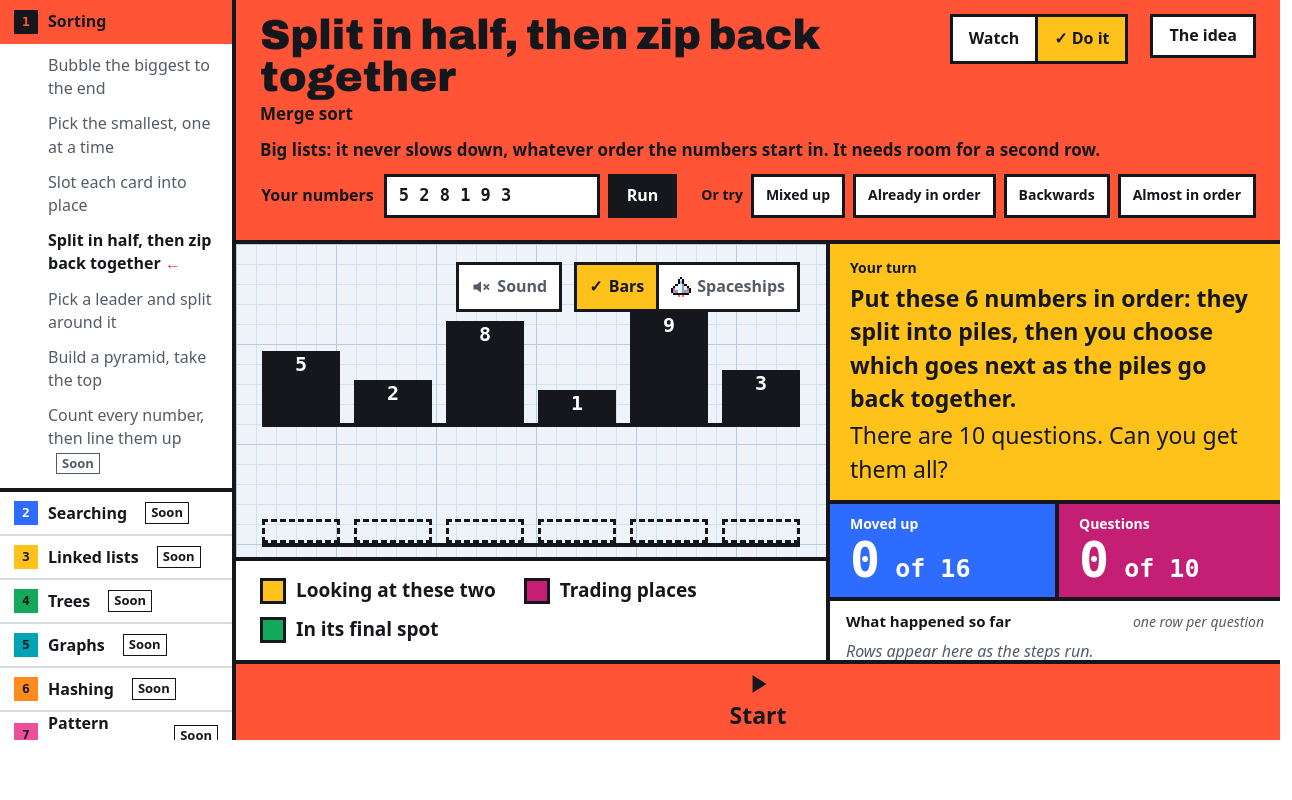
it: merge sort: Do it › L and R keys answer; a wrong key opens the nudge calmly and asks again
Click the button "Start": (758, 702) top-left (236, 664), bottom-right (1280, 740)
Wait 8000 ms
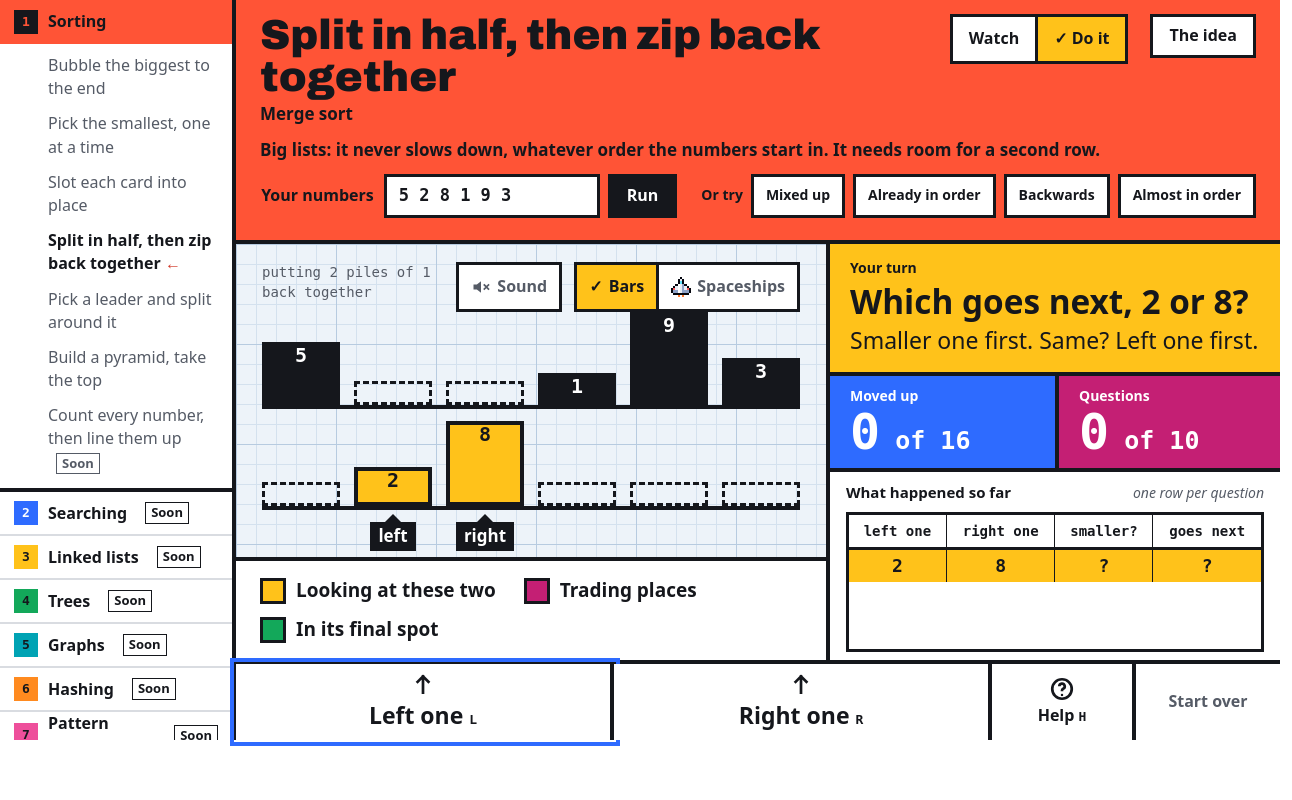
Type keys "r"
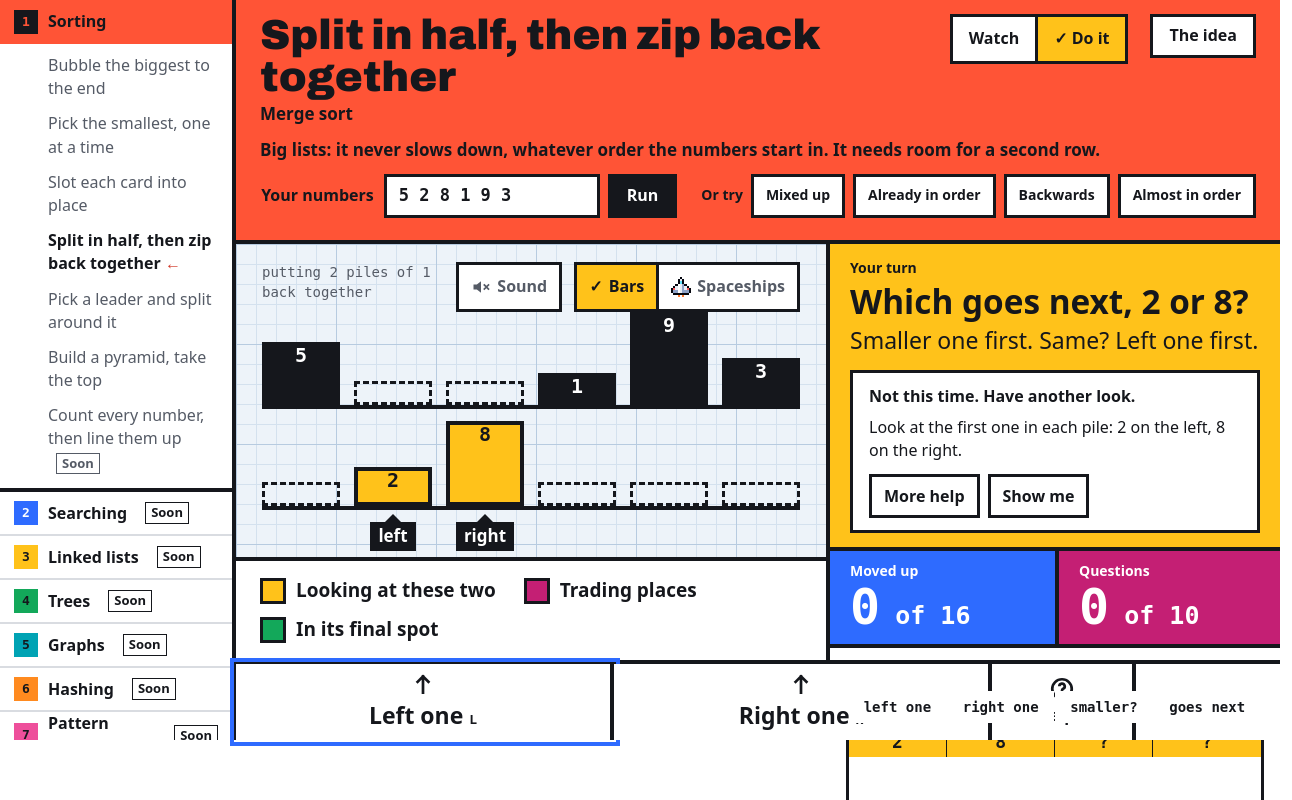
Now the text with class "do-it-question" reads "Which goes next, 2 or 8?", box top-left (850, 278), bottom-right (1249, 324)
Now the element with class "do-it-panel" shows "Not this time. Have another look.", box top-left (869, 385), bottom-right (1135, 407)
Type keys "L"
Wait 6000 ms
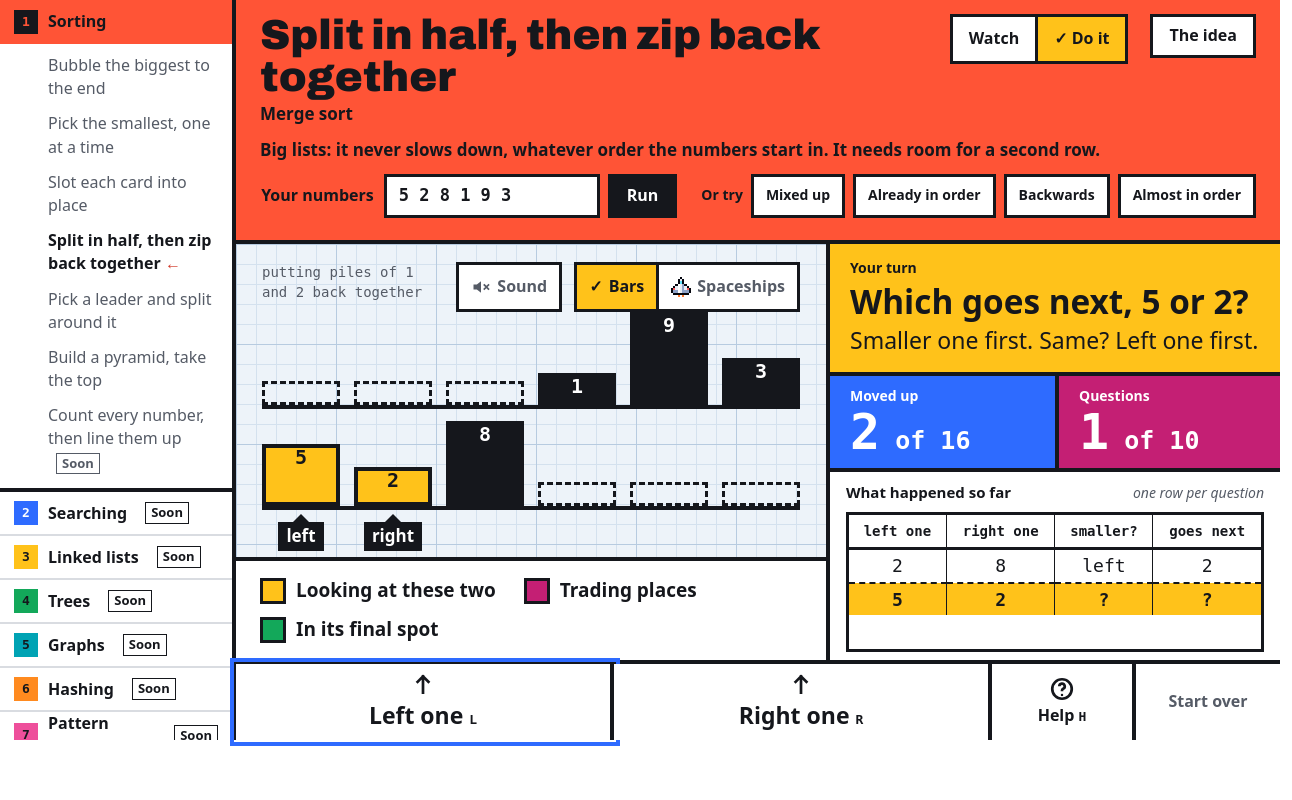
Now the text with class "do-it-question" reads "Which goes next, 5 or 2?", box top-left (850, 278), bottom-right (1249, 324)
Type keys "l"
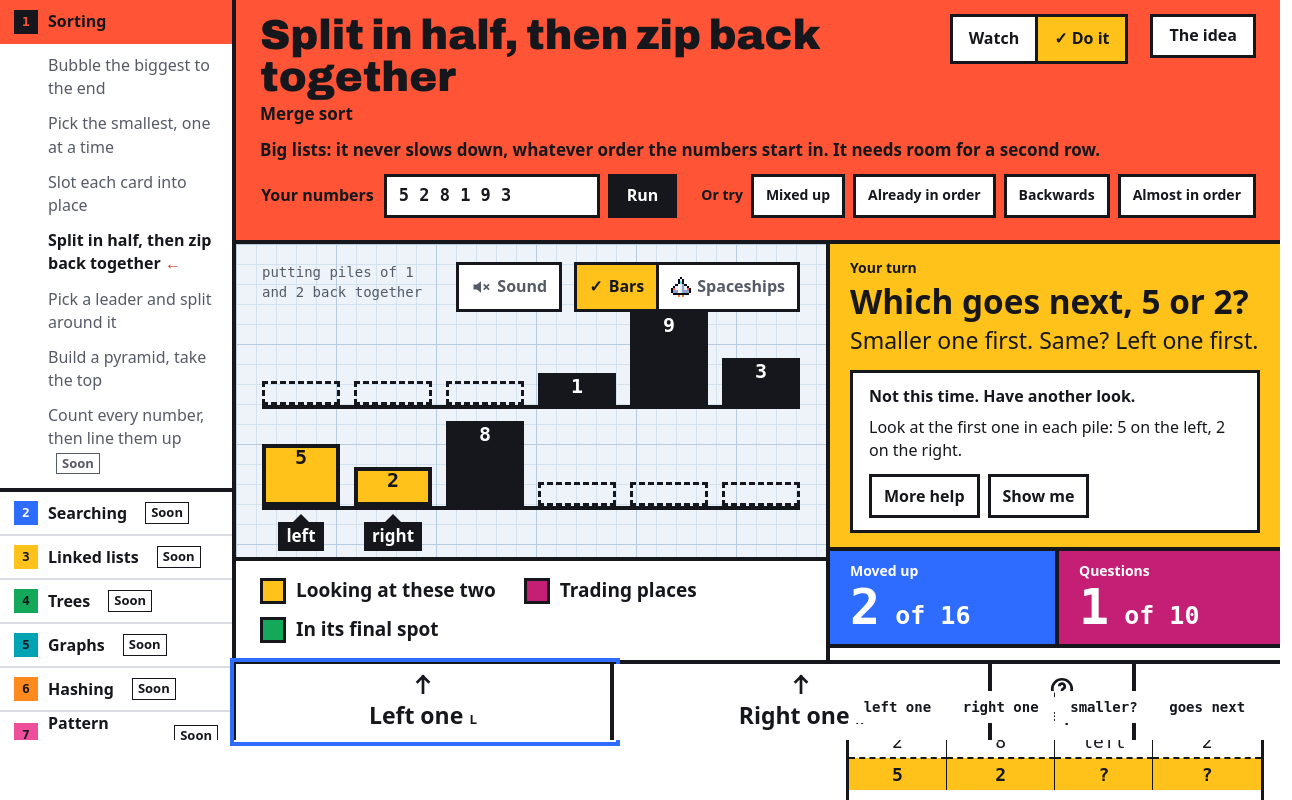
Now the element with class "do-it-panel" shows "Not this time.", box top-left (869, 385), bottom-right (1135, 407)
Type keys "r"
Wait 2000 ms
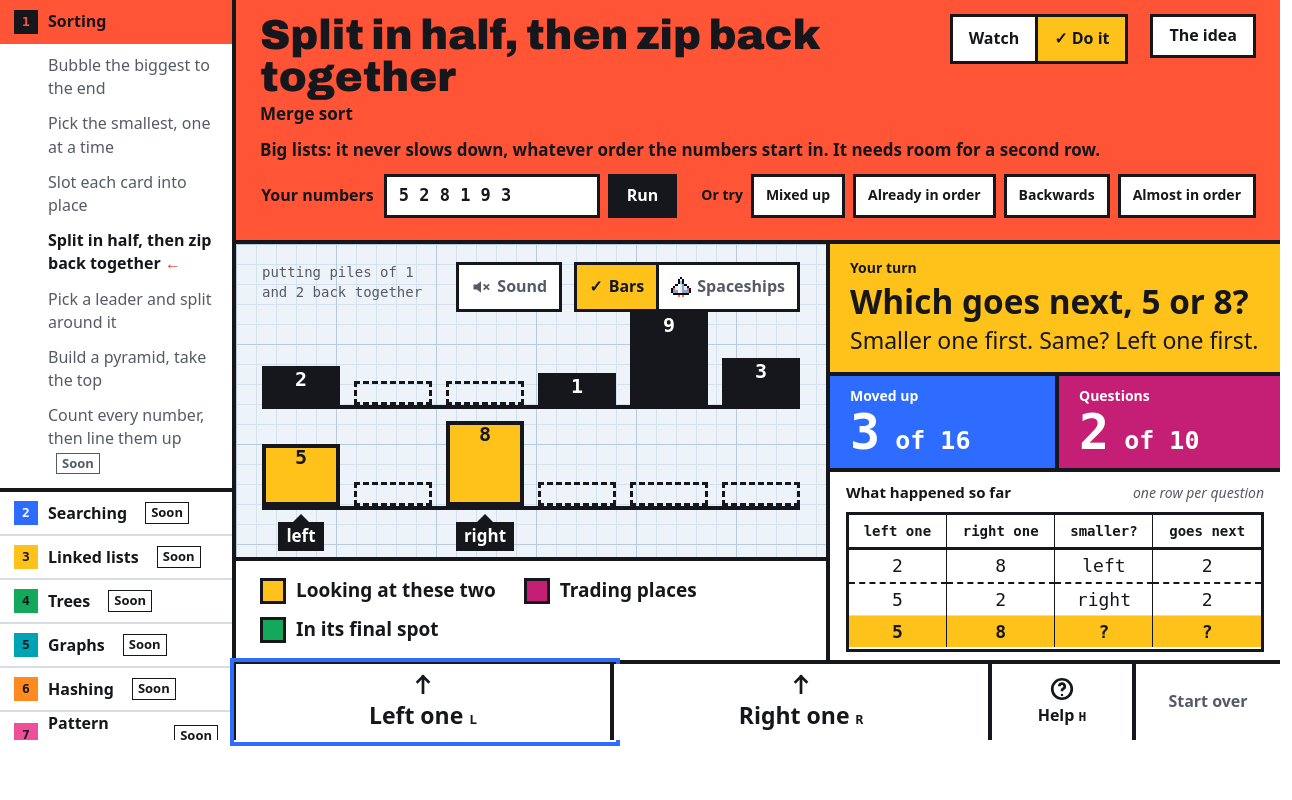
Now the text with class "do-it-question" reads "Which goes next, 5 or 8?", box top-left (850, 278), bottom-right (1249, 324)
